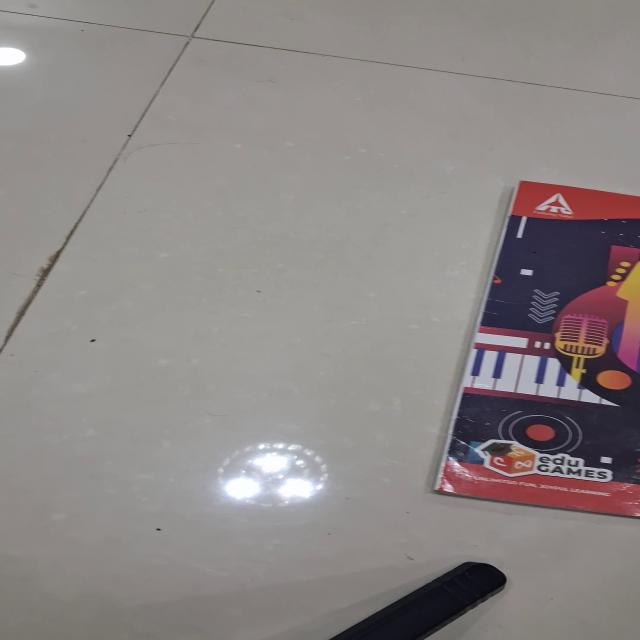paper: (430, 180, 639, 517)
